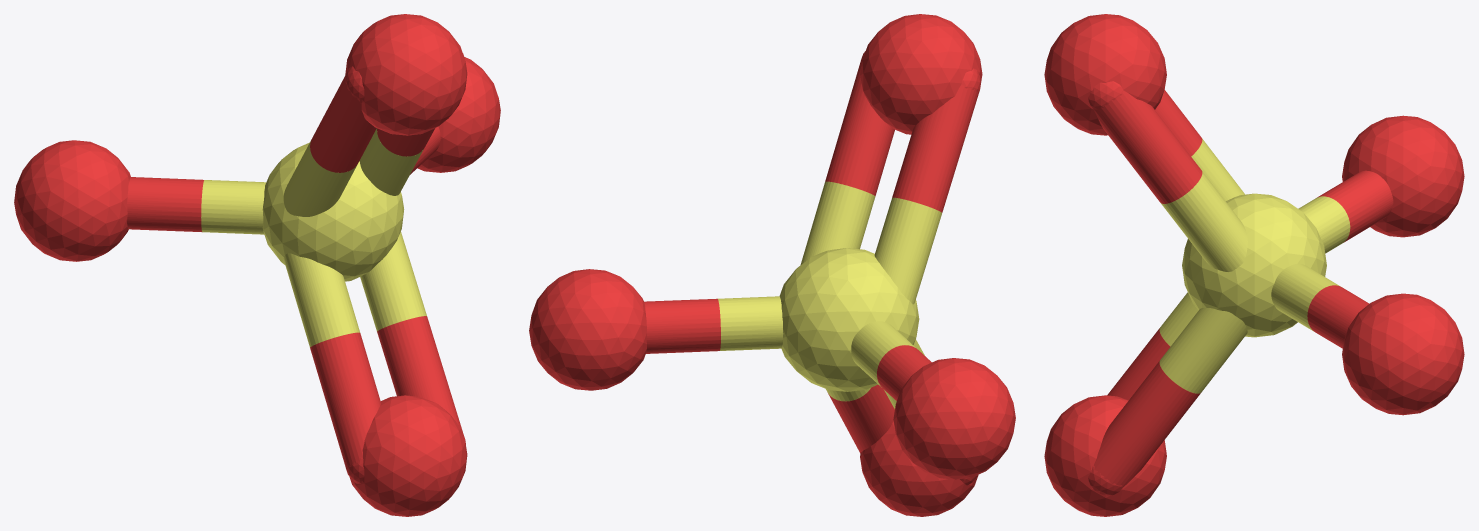
The model's file is sulfate.fbx.
3 views of the same model, side by side, from view 1: azimuth 30°, elevation 25°; view 2: azimuth 150°, elevation 25°; view 3: azimuth 270°, elevation 25° (orthographic).
Parts seen in each view (by area): view 1: Shape_IndexedFaceSet.004, Shape_IndexedFaceSet.002, Shape_IndexedFaceSet.001, Shape_IndexedFaceSet, Shape_IndexedFaceSet.024, Shape_IndexedFaceSet.003, Shape_IndexedFaceSet.021, Shape_IndexedFaceSet.023, Shape_IndexedFaceSet.007, Shape_IndexedFaceSet.014, Shape_IndexedFaceSet.020, Shape_IndexedFaceSet.005 (+3 smaller); view 2: Shape_IndexedFaceSet, Shape_IndexedFaceSet.004, Shape_IndexedFaceSet.003, Shape_IndexedFaceSet.002, Shape_IndexedFaceSet.014, Shape_IndexedFaceSet.001, Shape_IndexedFaceSet.018, Shape_IndexedFaceSet.012, Shape_IndexedFaceSet.010, Shape_IndexedFaceSet.016, Shape_IndexedFaceSet.009, Shape_IndexedFaceSet.021 (+2 smaller); view 3: Shape_IndexedFaceSet.003, Shape_IndexedFaceSet, Shape_IndexedFaceSet.004, Shape_IndexedFaceSet.002, Shape_IndexedFaceSet.001, Shape_IndexedFaceSet.021, Shape_IndexedFaceSet.018, Shape_IndexedFaceSet.016, Shape_IndexedFaceSet.020, Shape_IndexedFaceSet.007, Shape_IndexedFaceSet.010, Shape_IndexedFaceSet.009 (+7 smaller).
Part boxes in pixels (x1,y1,x2,y2): Shape_IndexedFaceSet.004: [14, 140, 130, 261]; Shape_IndexedFaceSet.002: [345, 14, 467, 135]; Shape_IndexedFaceSet.001: [349, 395, 467, 516]; Shape_IndexedFaceSet: [262, 142, 404, 281]; Shape_IndexedFaceSet.024: [310, 332, 380, 466]; Shape_IndexedFaceSet.003: [417, 57, 500, 172]; Shape_IndexedFaceSet.021: [377, 316, 463, 435]; Shape_IndexedFaceSet.023: [283, 253, 360, 347]; Shape_IndexedFaceSet.007: [127, 177, 203, 231]; Shape_IndexedFaceSet.014: [310, 73, 376, 172]; Shape_IndexedFaceSet.020: [360, 231, 426, 331]; Shape_IndexedFaceSet.005: [201, 180, 266, 234]; Shape_IndexedFaceSet: [779, 248, 919, 391]; Shape_IndexedFaceSet.004: [893, 358, 1015, 479]; Shape_IndexedFaceSet.003: [529, 269, 646, 390]; Shape_IndexedFaceSet.002: [860, 14, 982, 134]; Shape_IndexedFaceSet.014: [892, 85, 978, 212]; Shape_IndexedFaceSet.001: [860, 421, 978, 516]; Shape_IndexedFaceSet.018: [825, 60, 894, 196]; Shape_IndexedFaceSet.012: [874, 197, 941, 304]; Shape_IndexedFaceSet.010: [644, 298, 720, 353]; Shape_IndexedFaceSet.016: [800, 181, 875, 264]; Shape_IndexedFaceSet.009: [718, 296, 783, 350]; Shape_IndexedFaceSet.021: [828, 384, 894, 453]; Shape_IndexedFaceSet.003: [1342, 293, 1464, 415]; Shape_IndexedFaceSet: [1182, 193, 1326, 337]; Shape_IndexedFaceSet.004: [1342, 115, 1464, 237]; Shape_IndexedFaceSet.002: [1044, 14, 1166, 135]; Shape_IndexedFaceSet.001: [1044, 395, 1166, 516]; Shape_IndexedFaceSet.021: [1093, 361, 1201, 486]; Shape_IndexedFaceSet.018: [1094, 91, 1202, 203]; Shape_IndexedFaceSet.016: [1161, 171, 1247, 271]; Shape_IndexedFaceSet.020: [1159, 308, 1247, 393]; Shape_IndexedFaceSet.007: [1317, 170, 1393, 242]; Shape_IndexedFaceSet.010: [1307, 285, 1369, 348]; Shape_IndexedFaceSet.009: [1271, 264, 1340, 331].
Size of the model in its own units: 3103 by 3103 by 2399.
